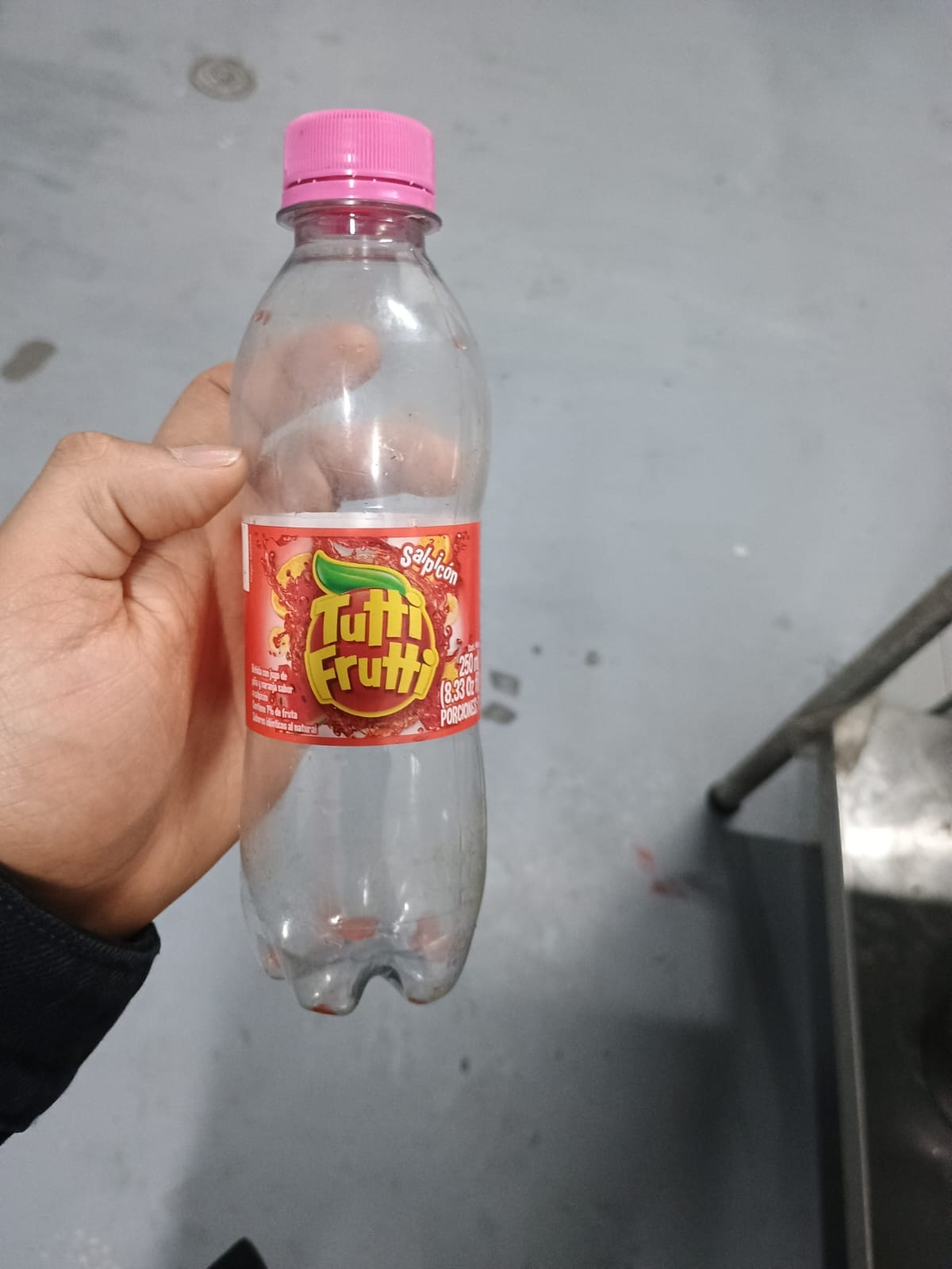Plastico: (232, 108, 490, 1014)
